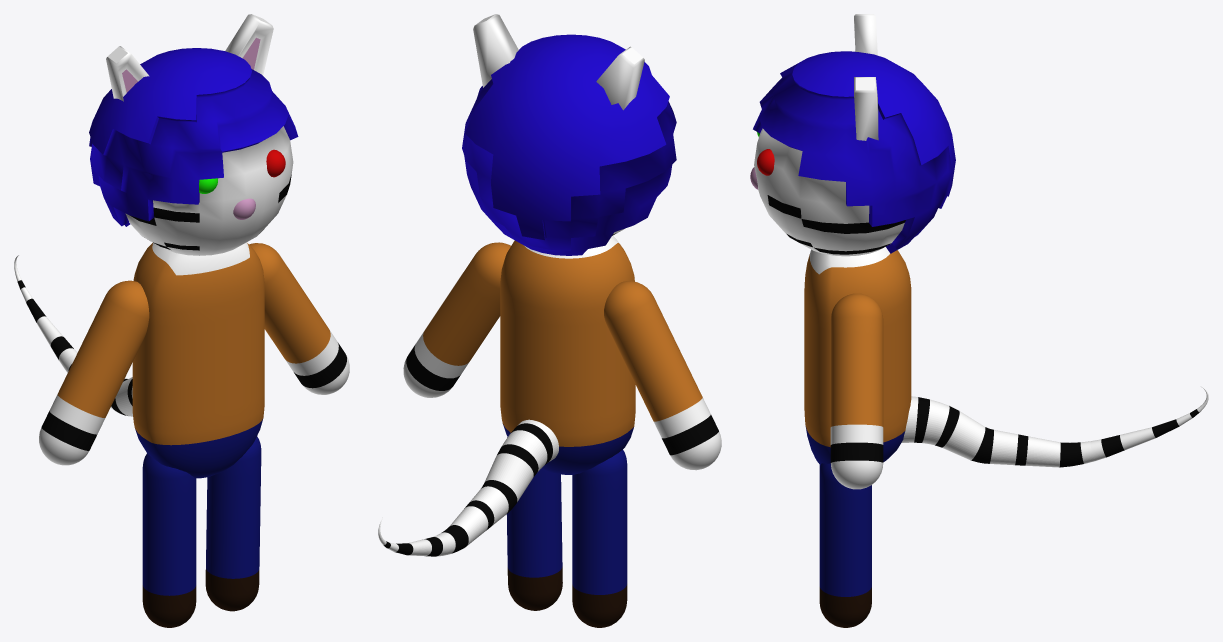
File: regin_base.fbx
3 views of the same model, side by side, from view 1: azimuth 30°, elevation 25°; view 2: azimuth 150°, elevation 25°; view 3: azimuth 270°, elevation 25° (orthographic). The views are drawn at different scales.
Parts seen in each view (by area): view 1: head, body, larm, lleg, rleg, rarm, Cube, tail, eyes; view 2: head, body, larm, lleg, rarm, tail, rleg, Cube; view 3: head, body, rarm, tail, rleg, Cube.
Boxes of the visible parts, <box> form: head: <box>89,48,298,255</box>; body: <box>132,242,264,478</box>; larm: <box>39,280,149,465</box>; lleg: <box>142,453,196,627</box>; rleg: <box>205,436,261,611</box>; rarm: <box>249,243,349,394</box>; Cube: <box>106,14,273,101</box>; tail: <box>14,255,132,416</box>; eyes: <box>199,149,285,193</box>; head: <box>462,34,676,255</box>; body: <box>500,235,635,474</box>; larm: <box>604,281,721,470</box>; lleg: <box>572,449,627,627</box>; rarm: <box>403,242,510,397</box>; tail: <box>378,419,558,556</box>; rleg: <box>506,437,562,610</box>; Cube: <box>473,14,644,110</box>; head: <box>753,51,955,256</box>; body: <box>804,247,911,465</box>; rarm: <box>830,293,883,489</box>; tail: <box>901,386,1208,467</box>; rleg: <box>819,463,871,627</box>; Cube: <box>854,14,878,140</box>.
Bounding box in the file's own units: 262 × 475 × 349.
